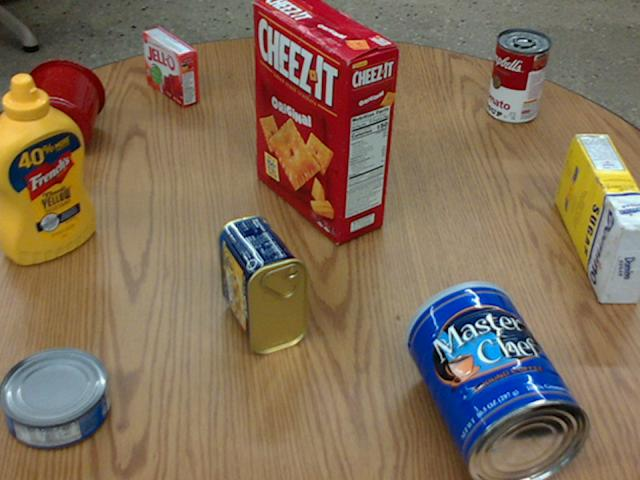cracker_box: (253, 0, 399, 241)
gelatin_box: (145, 27, 200, 106)
large_marker: (302, 0, 314, 62)
master_chef_can: (405, 280, 590, 479)
mug: (13, 58, 105, 156)
mustard_bottle: (0, 73, 96, 263)
potted_meat_can: (217, 215, 308, 354)
sugar_box: (555, 134, 639, 304)
tomato_soup_can: (487, 29, 550, 123)
tuna_fish_can: (0, 347, 109, 446)
